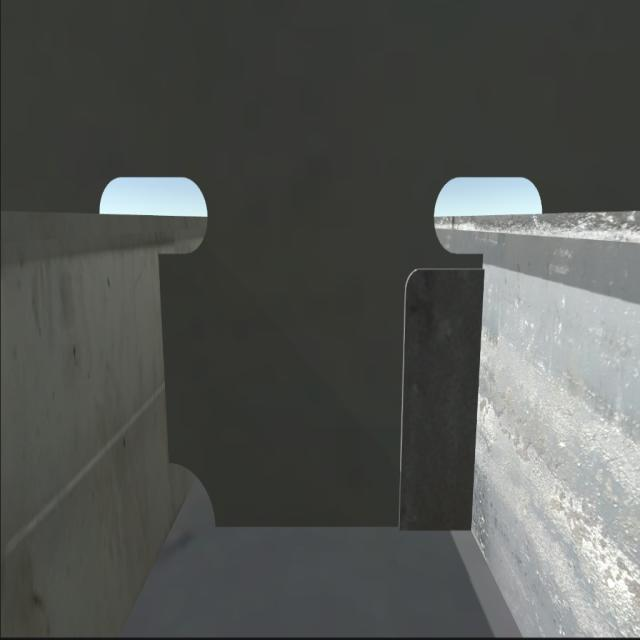fillet_hole: (171, 460, 216, 521)
fillet_yong_jeop_jang: (212, 514, 482, 538)
longi_yong_jeop_jang: (150, 250, 178, 460), (472, 260, 488, 537)
plate_CP05: (400, 263, 476, 536)
